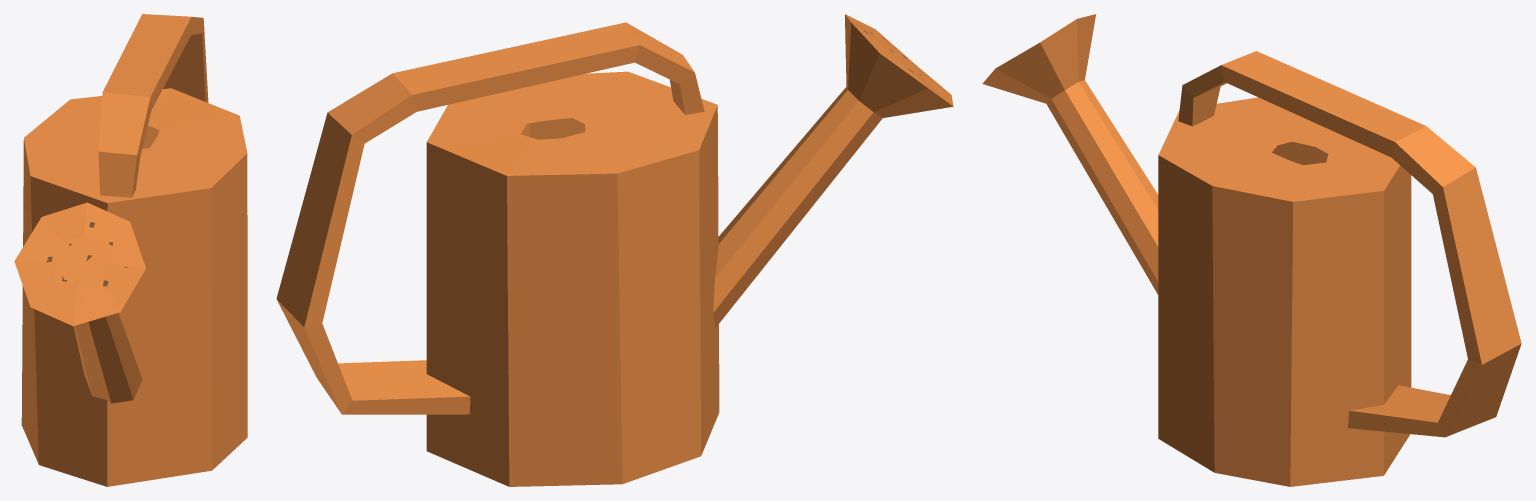
The model's file is Watering_Can_1.fbx.
The picture shows the model from 3 angles, left to right: view 1: azimuth 30°, elevation 25°; view 2: azimuth 150°, elevation 25°; view 3: azimuth 270°, elevation 25°; orthographic projection. The views are drawn at different scales.
Visible parts, largest first — view 1: Watering_Can_1; view 2: Watering_Can_1; view 3: Watering_Can_1.
Boxes of the visible parts, bbox=[...] form: Watering_Can_1: bbox=[14, 14, 247, 486]; Watering_Can_1: bbox=[276, 14, 953, 486]; Watering_Can_1: bbox=[982, 14, 1521, 486].
Size of the model in its own units: 50.26 by 58.28 by 43.19.
